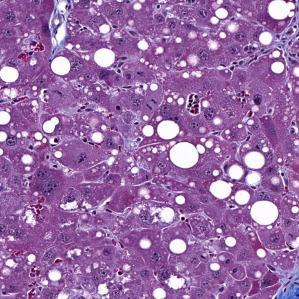fibrosis: (271, 271, 299, 298)
